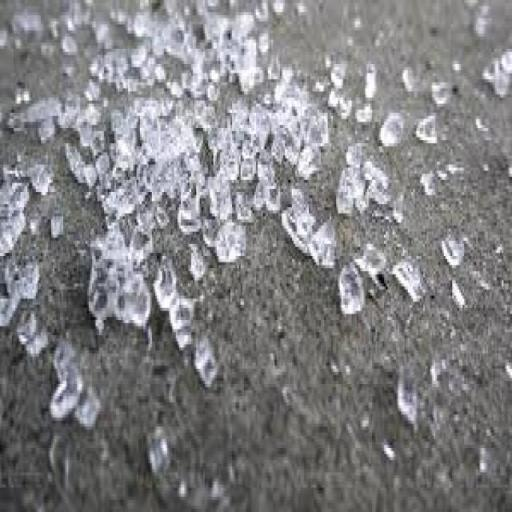glass: (0, 3, 512, 512), (389, 342, 501, 460), (50, 338, 101, 428), (1, 258, 40, 328), (24, 186, 65, 245), (10, 95, 65, 133), (117, 277, 152, 331), (479, 46, 512, 98), (16, 310, 50, 360), (391, 257, 427, 303), (214, 219, 246, 265), (354, 241, 389, 283), (309, 220, 338, 270), (396, 364, 419, 426), (193, 335, 219, 389), (338, 264, 364, 316), (152, 260, 178, 312), (168, 298, 196, 346), (53, 337, 80, 385), (146, 428, 171, 479), (335, 167, 361, 216), (176, 192, 203, 237), (9, 7, 45, 40), (378, 110, 406, 150), (440, 234, 466, 270), (29, 161, 54, 197), (414, 112, 440, 146), (188, 244, 208, 284), (472, 4, 494, 38), (430, 79, 452, 108), (364, 62, 378, 102), (402, 64, 420, 95), (420, 170, 438, 199), (14, 81, 31, 107)
